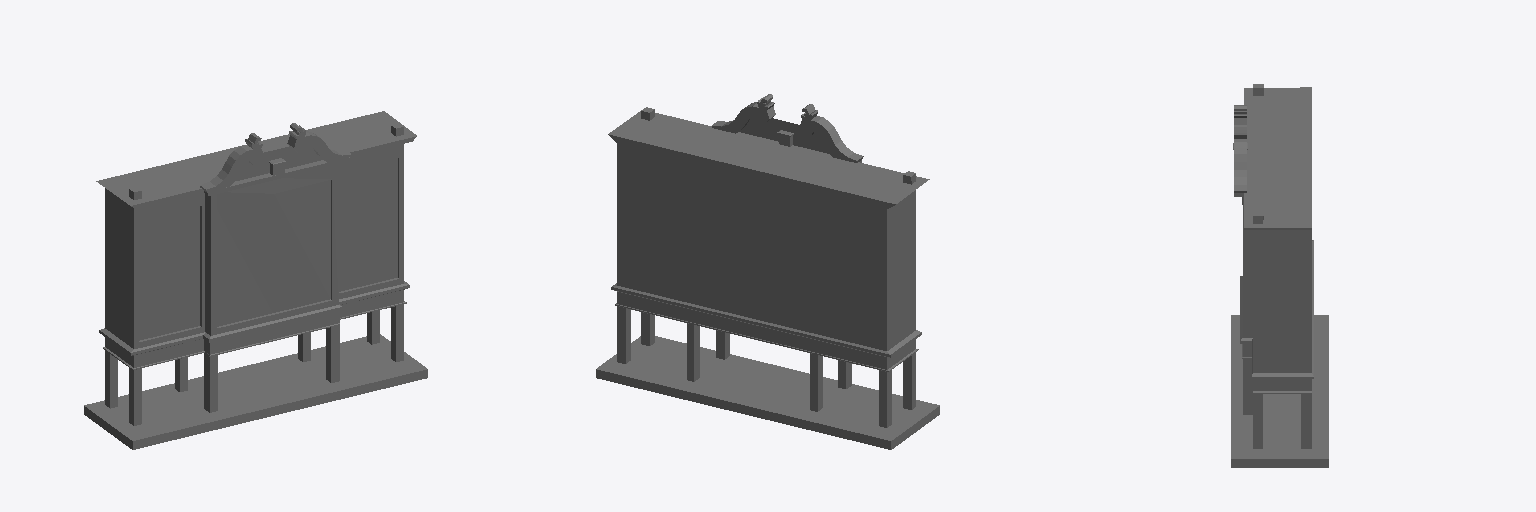
File: lowpoly.obj
3 views of the same model, side by side, from view 1: azimuth 30°, elevation 25°; view 2: azimuth 150°, elevation 25°; view 3: azimuth 270°, elevation 25° (orthographic).
Bounding box in the file's own units: 18.64 × 16.9 × 5.35.